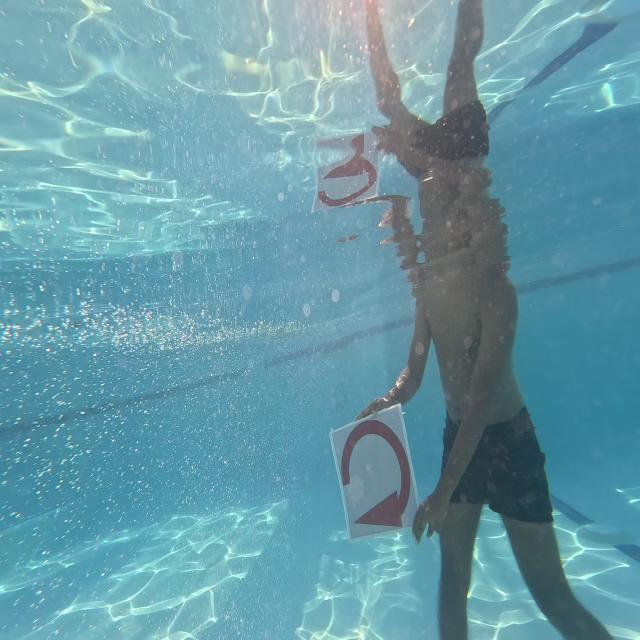red_side: (314, 396, 422, 549)
